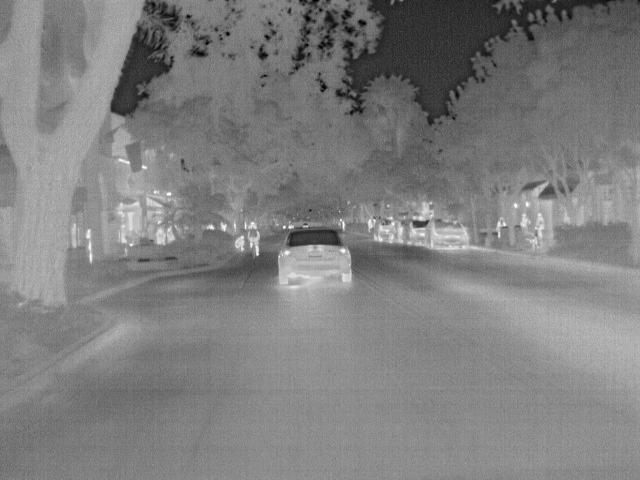car: (276, 226, 355, 286), (426, 218, 474, 252), (401, 218, 427, 246), (370, 216, 398, 242)
person: (244, 221, 260, 258), (534, 210, 546, 241), (230, 234, 244, 254)
